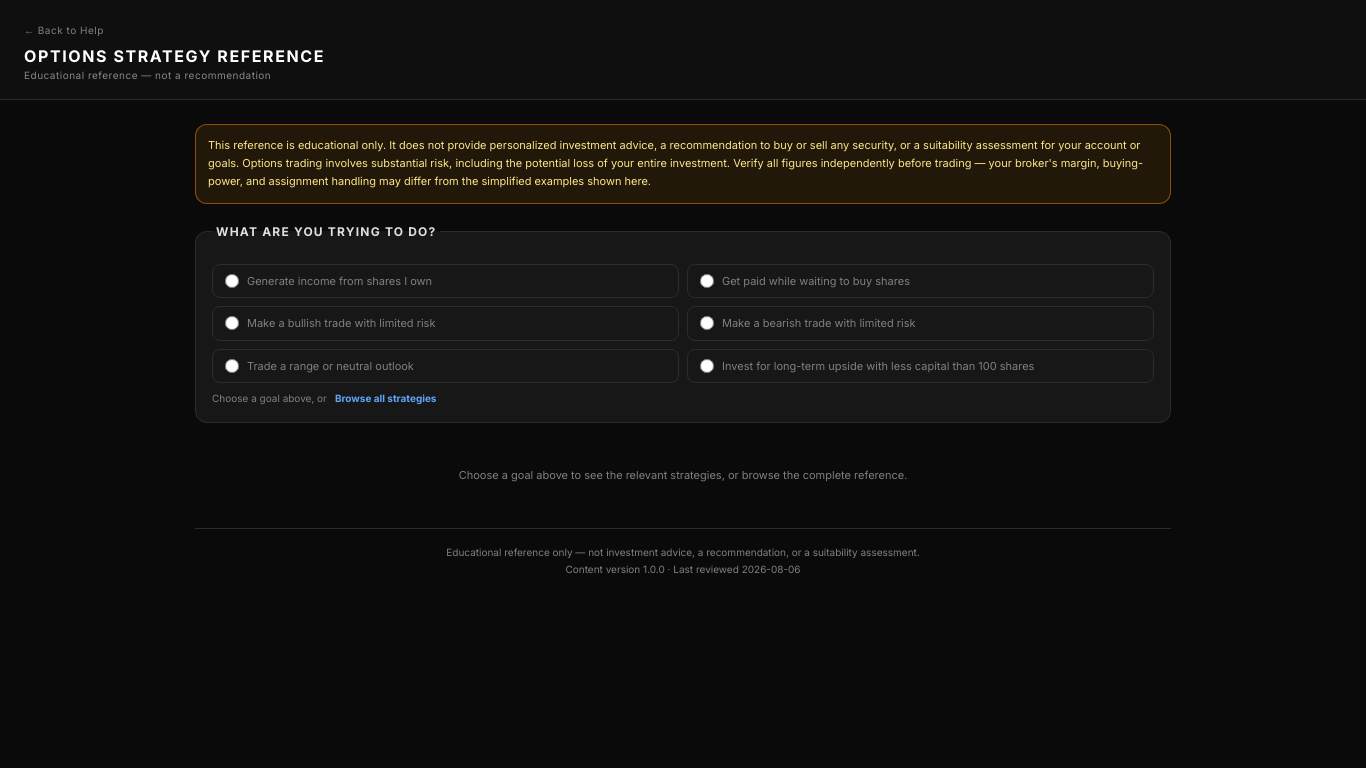
Test: HELP-0001: Options Strategy Reference page › goal-first default / initial state (corrective pass item 5) › selecting a goal directly from the initial state shows only that goal's cards (no need to Browse all first)
This screenshot has width=1366, height=768.
Click the radio button labelled "Get paid while waiting to buy shares" at x=707, y=281, box [700, 274, 714, 288]
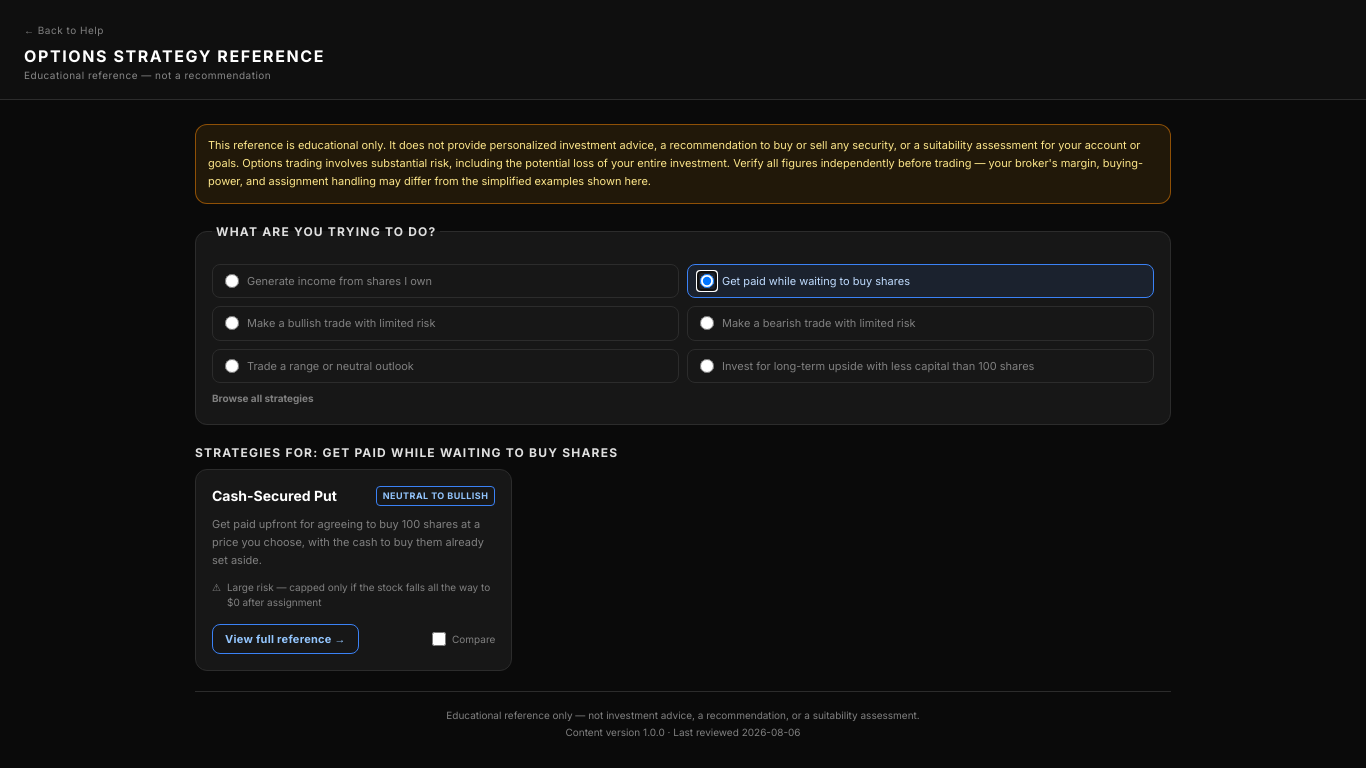
Check: the number of buttons "View full reference →" is 1, box [212, 624, 359, 654]
Check: the heading "Cash-Secured Put" is shown, box [212, 486, 337, 506]
